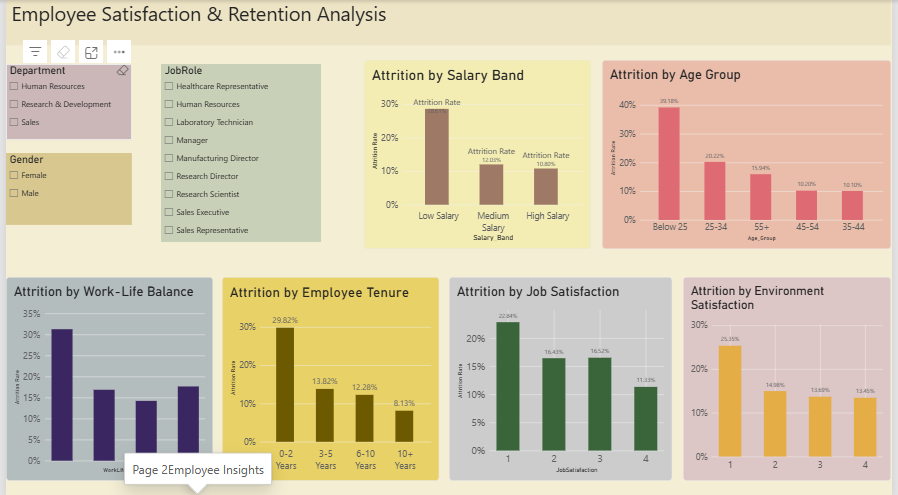

The page's visual inventory and layout, read from the dashboard file:
{"tool":"powerbi","page":{"name":"Page 2Employee Insights","canvas":[1920,1080],"ordinal":1},"visuals":[{"type":"textbox","box":[0,0,1919.3,97.6],"z":0},{"type":"clusteredColumnChart","title":"Attrition by Salary Band","fields":{"Category":["HR_Employee_Attrition_Cleaned.Salary_Band"],"Y":["HR_Employee_Attrition_Cleaned.Attrition Rate"]},"box":[776.4,130.1,492.3,409.9],"z":1},{"type":"clusteredColumnChart","title":"Attrition by Employee Tenure","fields":{"Category":["HR_Employee_Attrition_Cleaned.Tenure_Group"],"Y":["HR_Employee_Attrition_Cleaned.Attrition Rate"]},"box":[468.4,600.7,470.6,442.4],"z":2},{"type":"clusteredColumnChart","title":"Attrition by Age Group","fields":{"Category":["HR_Employee_Attrition_Cleaned.Age_Group"],"Y":["HR_Employee_Attrition_Cleaned.Attrition Rate"]},"box":[1292.5,130.1,626.7,409.9],"z":3},{"type":"clusteredColumnChart","title":"Attrition by Job Satisfaction","fields":{"Category":["HR_Employee_Attrition_Cleaned.JobSatisfaction"],"Y":["HR_Employee_Attrition_Cleaned.Attrition Rate"]},"box":[960.7,600.7,483.6,442.4],"z":4},{"type":"clusteredColumnChart","title":"Attrition by Work-Life Balance","fields":{"Category":["HR_Employee_Attrition_Cleaned.WorkLifeBalance"],"Y":["HR_Employee_Attrition_Cleaned.Attrition Rate"]},"box":[0,600.7,448.9,442.4],"z":5},{"type":"slicer","fields":{"Values":["HR_Employee_Attrition_Cleaned.Department"]},"box":[0,138.8,273.3,164.8],"z":6},{"type":"slicer","fields":{"Values":["HR_Employee_Attrition_Cleaned.Gender"]},"box":[0,331.8,273.3,156.1],"z":7},{"type":"slicer","fields":{"Values":["HR_Employee_Attrition_Cleaned.JobRole"]},"box":[336.1,138.8,347,386],"z":8},{"type":"clusteredColumnChart","title":"Attrition by Environment Satisfaction","fields":{"Category":["HR_Employee_Attrition_Cleaned.EnvironmentSatisfaction"],"Y":["HR_Employee_Attrition_Cleaned.Attrition Rate"]},"box":[1468.2,600.7,451.1,442.4],"z":9}]}

Visuals, with their boxes on the page's 1920x1080 design canvas (x1, y1, x2, y2). These are canvas units, not pixel positions in the 898x495 screenshot, which may show the page scaled, cropped or inside an application window:
textbox: bbox=[0, 0, 1919, 98]
"Attrition by Salary Band" clusteredColumnChart: bbox=[776, 130, 1269, 540]
"Attrition by Employee Tenure" clusteredColumnChart: bbox=[468, 601, 939, 1043]
"Attrition by Age Group" clusteredColumnChart: bbox=[1292, 130, 1919, 540]
"Attrition by Job Satisfaction" clusteredColumnChart: bbox=[961, 601, 1444, 1043]
"Attrition by Work-Life Balance" clusteredColumnChart: bbox=[0, 601, 449, 1043]
slicer - HR_Employee_Attrition_Cleaned.Department: bbox=[0, 139, 273, 304]
slicer - HR_Employee_Attrition_Cleaned.Gender: bbox=[0, 332, 273, 488]
slicer - HR_Employee_Attrition_Cleaned.JobRole: bbox=[336, 139, 683, 525]
"Attrition by Environment Satisfaction" clusteredColumnChart: bbox=[1468, 601, 1919, 1043]
